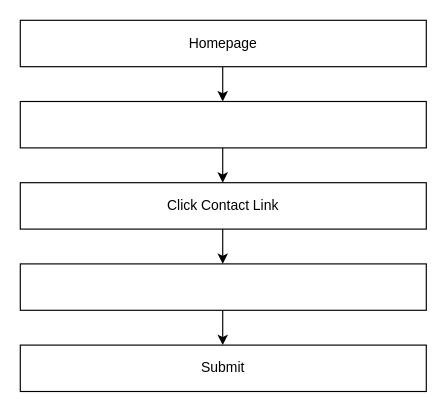
Some shapes in this 447 by 412 pixel diagram are drawn without their labels. Here are the shapes that lost their labels. From the top down, the centre of each, then its label:
At point 222,124: "View Faculty Profile".
At point 222,286: "Complete Form".
